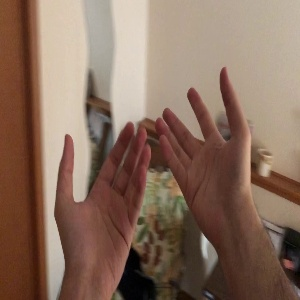hand: (157, 67, 249, 224), (57, 121, 150, 273)
